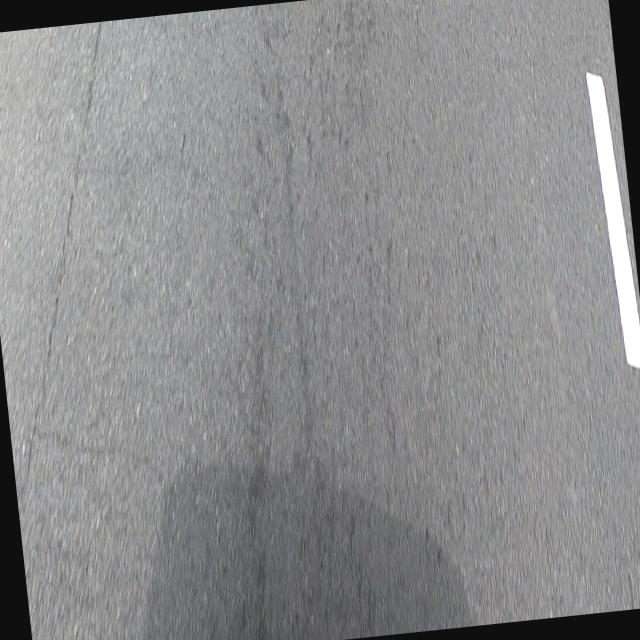Retak-Memanjang: (27, 21, 103, 489)
